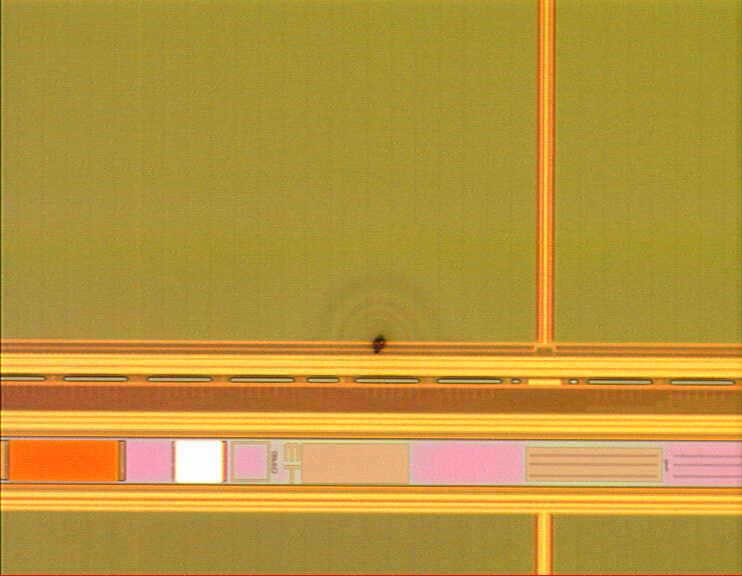PIQ PARTICLE: (364, 330, 396, 362)
